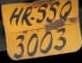character: (24, 32, 40, 56), (38, 30, 53, 54), (12, 34, 25, 59), (53, 26, 66, 51), (8, 6, 24, 26), (45, 1, 59, 23), (58, 1, 73, 20), (20, 5, 33, 26), (35, 2, 47, 23)
